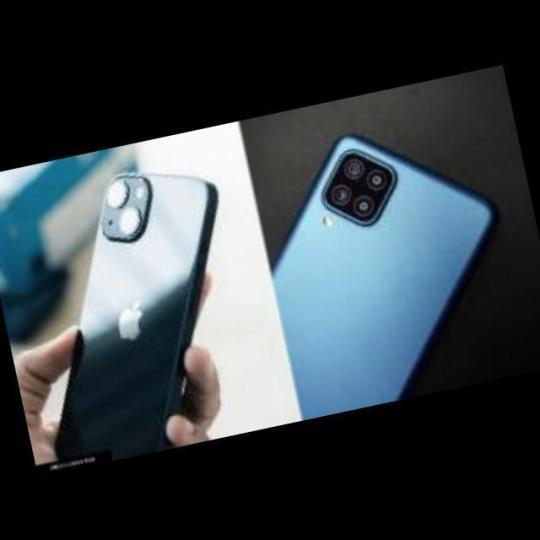phone: (269, 128, 496, 428), (53, 170, 226, 466)
